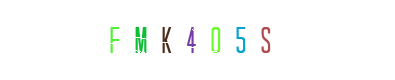0: (157, 0, 237, 80)
4: (138, 0, 218, 80)
5: (181, 0, 261, 80)
F: (101, 0, 181, 80)
K: (128, 0, 208, 80)
M: (126, 0, 206, 80)
S: (200, 0, 280, 80)
